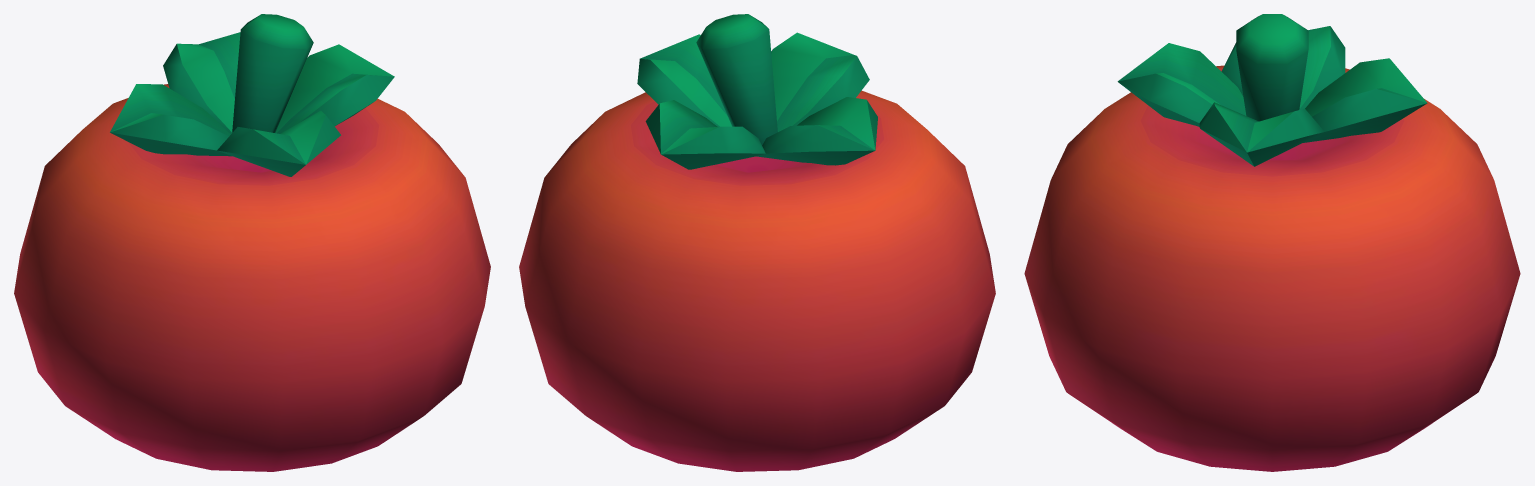
Rendered from food_ingredient_tomato.glb.
The picture shows the model from 3 angles, left to right: view 1: azimuth 30°, elevation 25°; view 2: azimuth 150°, elevation 25°; view 3: azimuth 270°, elevation 25°; orthographic projection. The views are drawn at different scales.
Parts seen in each view (by area): view 1: food_ingredient_tomato; view 2: food_ingredient_tomato; view 3: food_ingredient_tomato.
Boxes of the visible parts, x1=… form: food_ingredient_tomato: x1=14, y1=14, x2=490, y2=471; food_ingredient_tomato: x1=519, y1=14, x2=995, y2=471; food_ingredient_tomato: x1=1024, y1=14, x2=1520, y2=471.
Size of the model in its own units: 0.75 by 0.7 by 0.75.
Materials: 1 (1 with a texture image).
